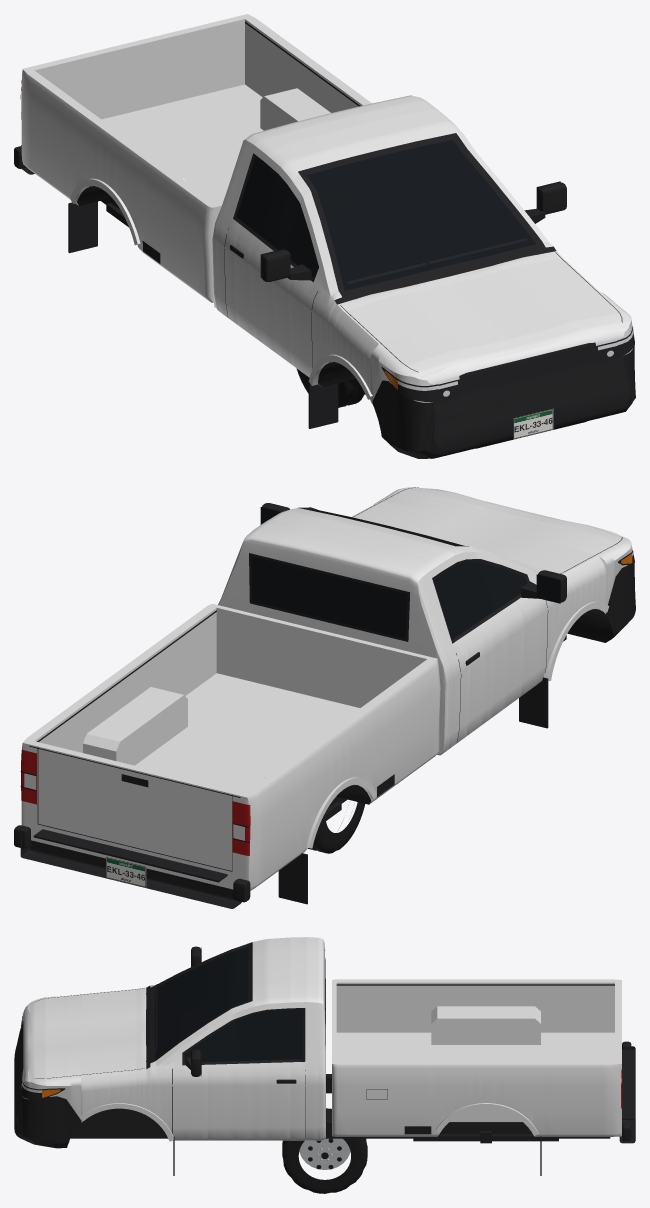
File: nissan-np300.glb
3 views of the same model, one above another, from view 1: azimuth 30°, elevation 25°; view 2: azimuth 150°, elevation 25°; view 3: azimuth 270°, elevation 25° (orthographic). The views are drawn at different scales.
Visible parts, largest first — view 1: body, wheel; view 2: body, wheel; view 3: body, wheel.
Boxes of the visible parts, bbox=[...] form: body: bbox=[14, 14, 635, 458]; wheel: bbox=[296, 368, 364, 407]; body: bbox=[14, 487, 635, 908]; wheel: bbox=[308, 802, 364, 853]; body: bbox=[14, 937, 635, 1175]; wheel: bbox=[282, 1108, 367, 1193].
Bounding box in the file's own units: 2.29 × 2.12 × 5.33.
Materials: 1 (1 with a texture image).
